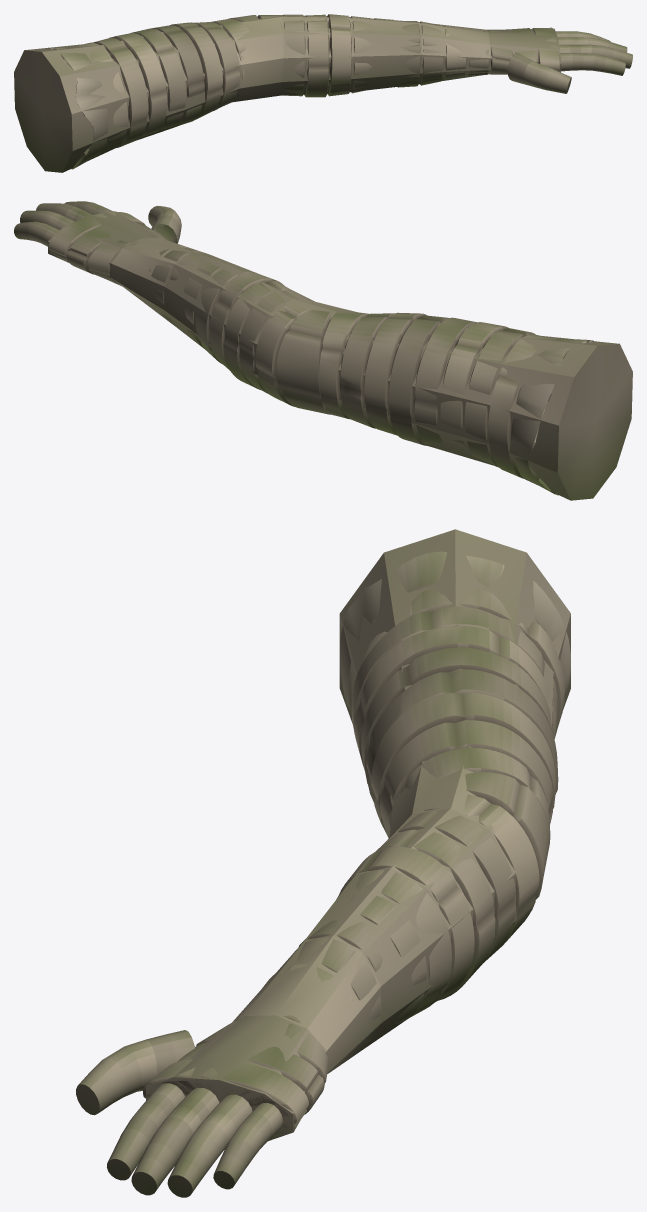
Rendered from harbour_colossus_arm.glb.
The picture shows the model from 3 angles, top to bottom: view 1: azimuth 30°, elevation 25°; view 2: azimuth 150°, elevation 25°; view 3: azimuth 270°, elevation 25°; orthographic projection. The views are drawn at different scales.
Parts seen in each view (by area): view 1: harbour_colossus_arm, harbour_colossus_arm_far; view 2: harbour_colossus_arm, harbour_colossus_arm_far; view 3: harbour_colossus_arm, harbour_colossus_arm_far.
Boxes of the visible parts, bbox=[...] form: harbour_colossus_arm: bbox=[46, 14, 632, 169]; harbour_colossus_arm_far: bbox=[14, 15, 561, 172]; harbour_colossus_arm: bbox=[14, 201, 594, 495]; harbour_colossus_arm_far: bbox=[47, 211, 632, 500]; harbour_colossus_arm: bbox=[76, 551, 570, 1197]; harbour_colossus_arm_far: bbox=[145, 529, 570, 1140].
Bounding box in the file's own units: 64.91 × 14.39 × 26.89.
